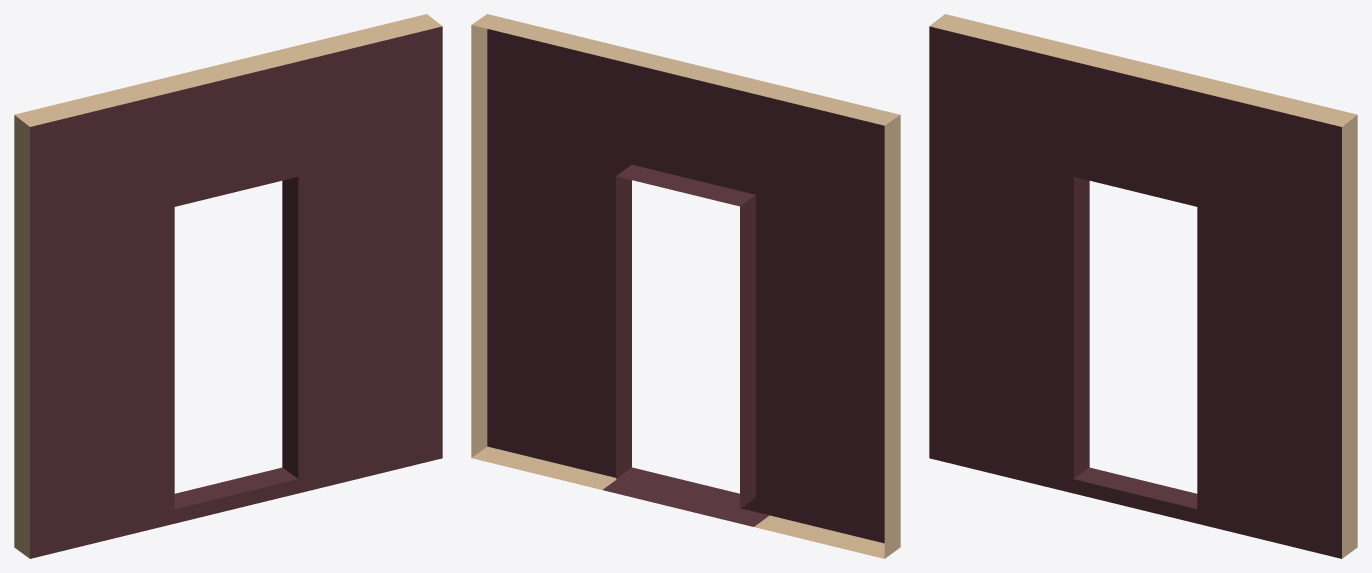
The model's file is house-wall-door-3x3m.fbx.
The picture shows the model from 3 angles, left to right: view 1: azimuth 30°, elevation 25°; view 2: azimuth 150°, elevation 25°; view 3: azimuth 330°, elevation 25°; orthographic projection.
Parts seen in each view (by area): view 1: house-wall-door-3x3m; view 2: house-wall-door-3x3m; view 3: house-wall-door-3x3m.
Part boxes in pixels (box(x1,y1,x2,y2)): house-wall-door-3x3m: box(14, 14, 442, 558); house-wall-door-3x3m: box(471, 14, 900, 558); house-wall-door-3x3m: box(929, 14, 1357, 558).
Bounding box in the file's own units: 3 × 3.01 × 0.2.
